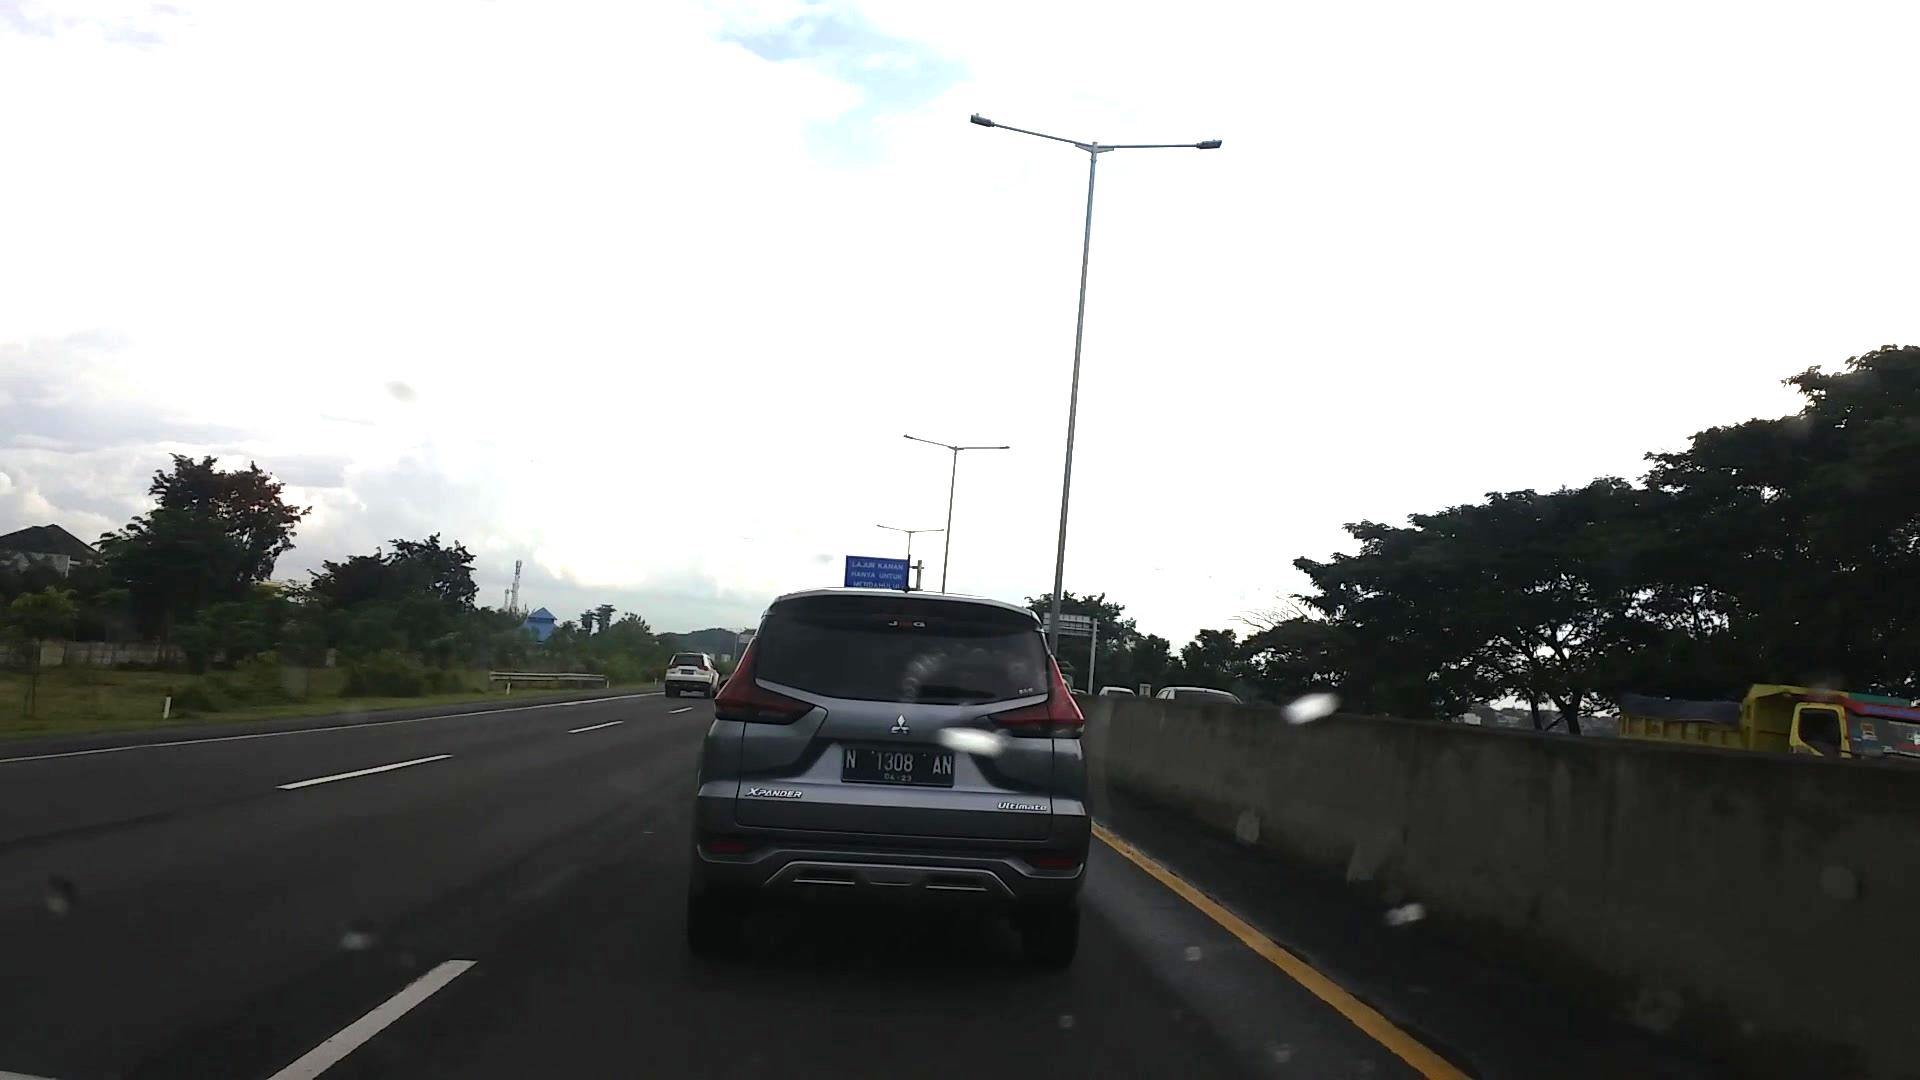plate_positive: (841, 746, 955, 786)
